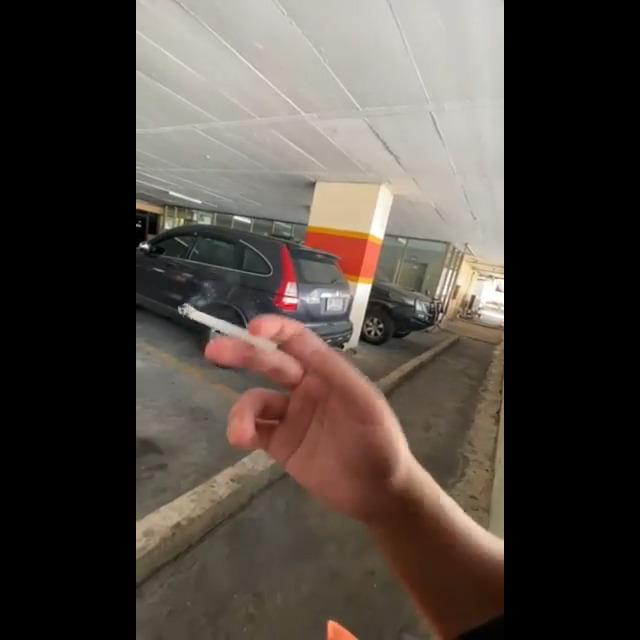rokok: (167, 286, 271, 366)
